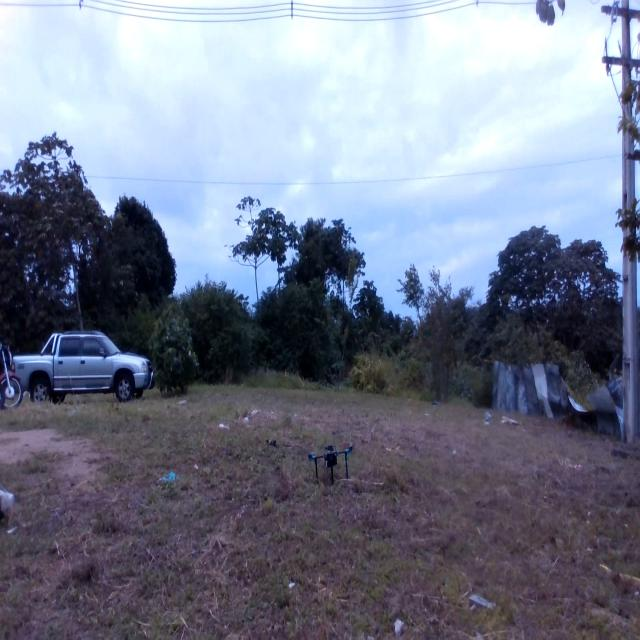-uav-: (304, 433, 356, 493)
